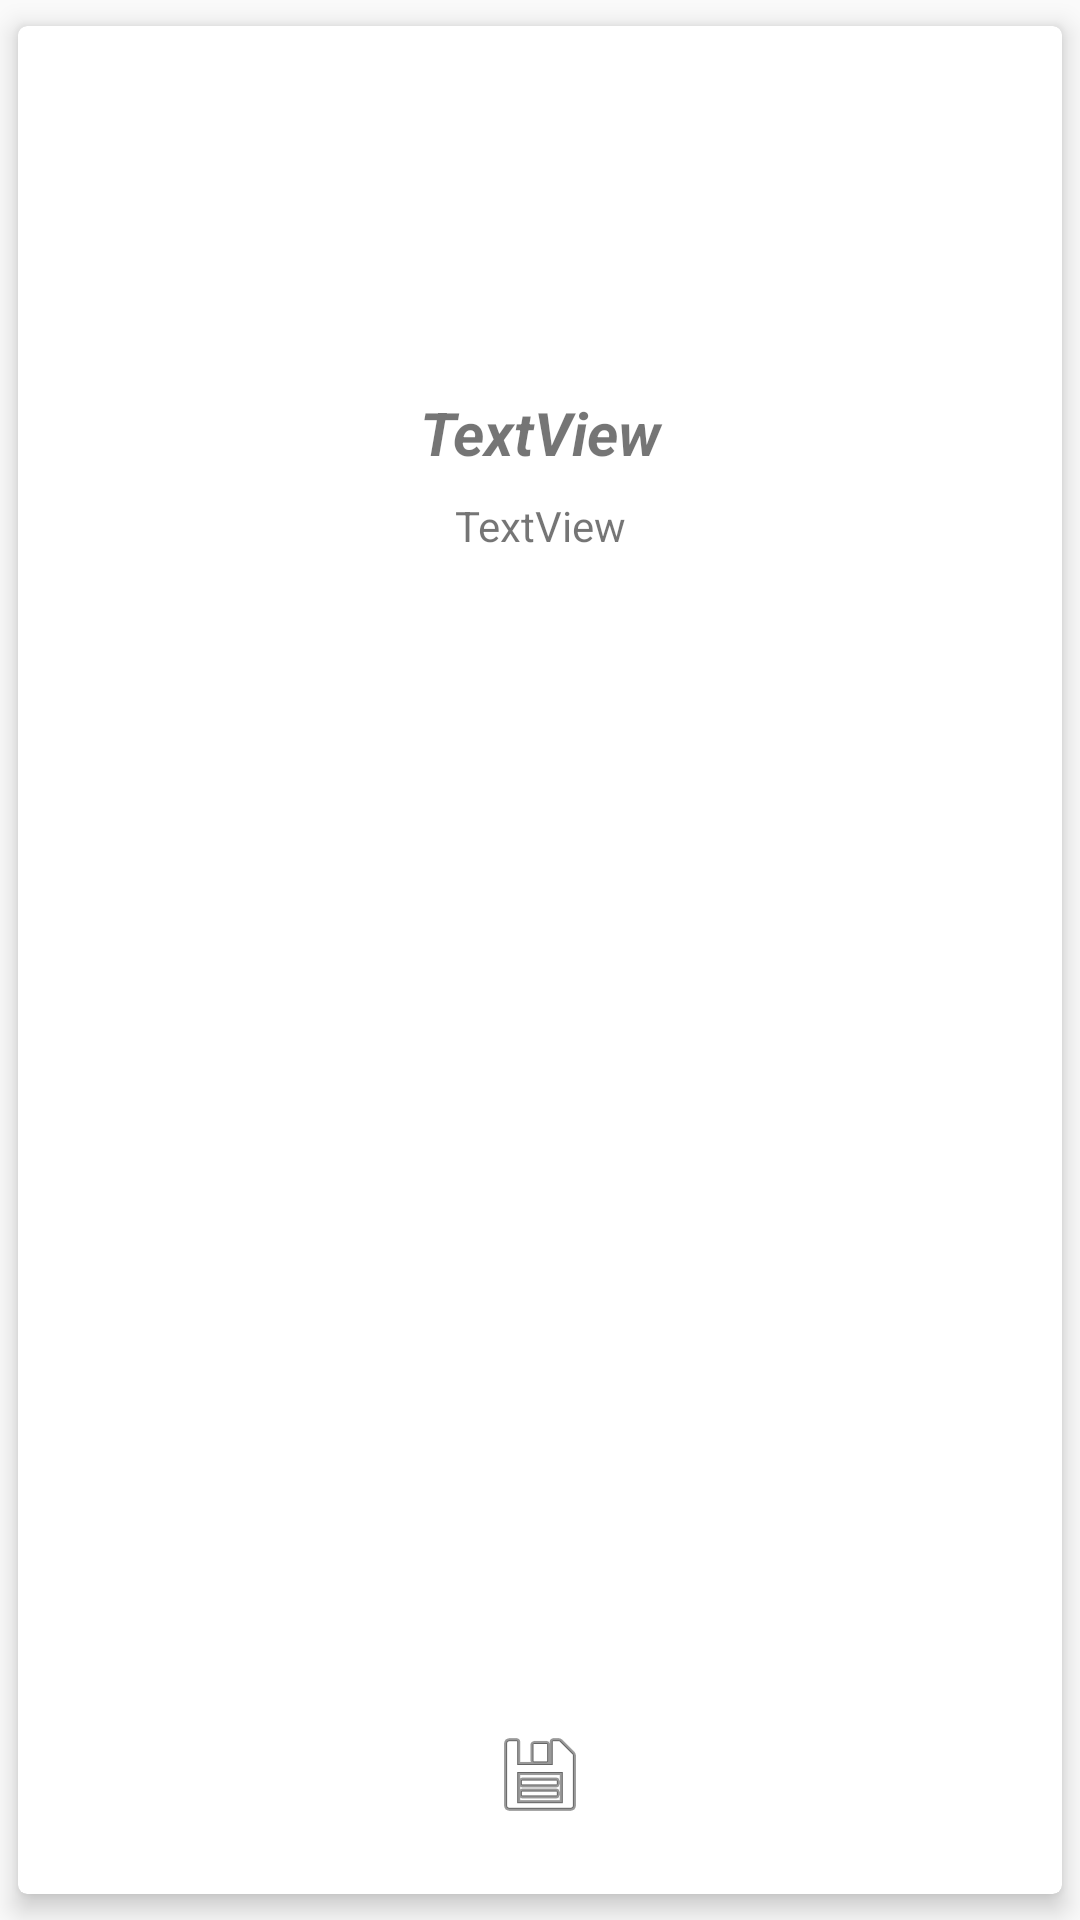

Icons on this 1080w x 1920h Android screen, each with its box as (x1, y1, x2, y2):
save: (504, 1738, 576, 1811)
